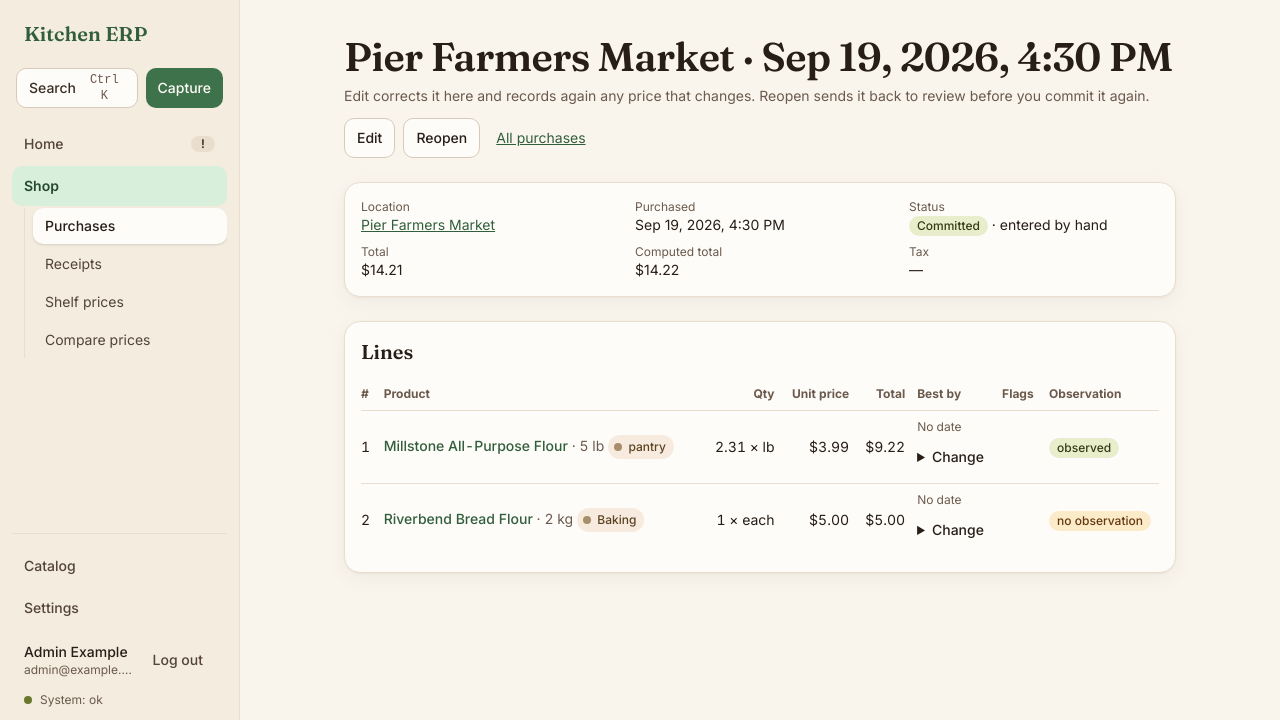
it: purchases › edits a manual purchase with the entry form and PUTs every line
Check: the heading "Pier Farmers Market · Sep 19, 2026, 4:30 PM" is shown, box [344,32,1172,82]
Click the button "Edit" at (370, 138), box [344,118,395,158]
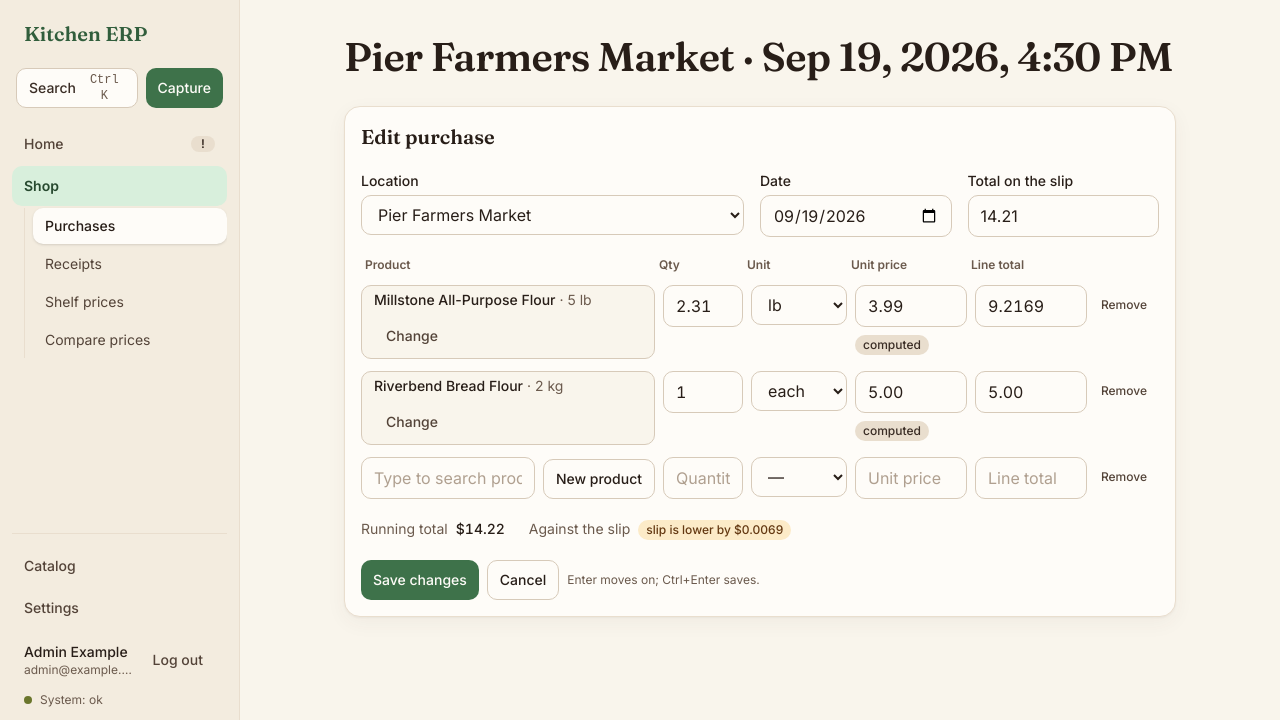
Check: the dropdown labelled "Location" shows "Pier Farmers Market", box [361,195,744,235]
Check: the field labelled "Total on the slip" holds "14.21", box [968,195,1159,237]
Check: the 1st field named "Quantity 1" holds "2.31", box [663,285,743,327]
Replace the text in the 3rd field named "Line total 1" with "10" at (1031, 306), box [975,285,1087,327]
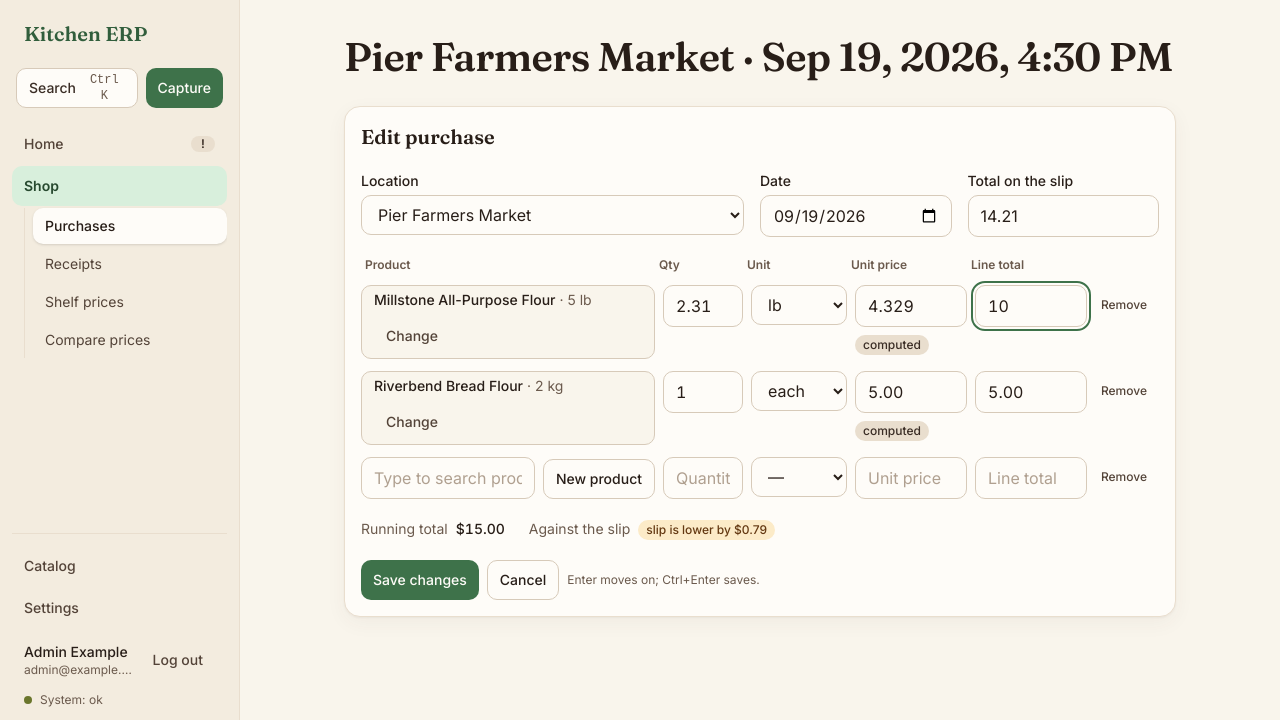
Replace the text in the field labelled "Total on the slip" with "15" at (1063, 216), box [968,195,1159,237]
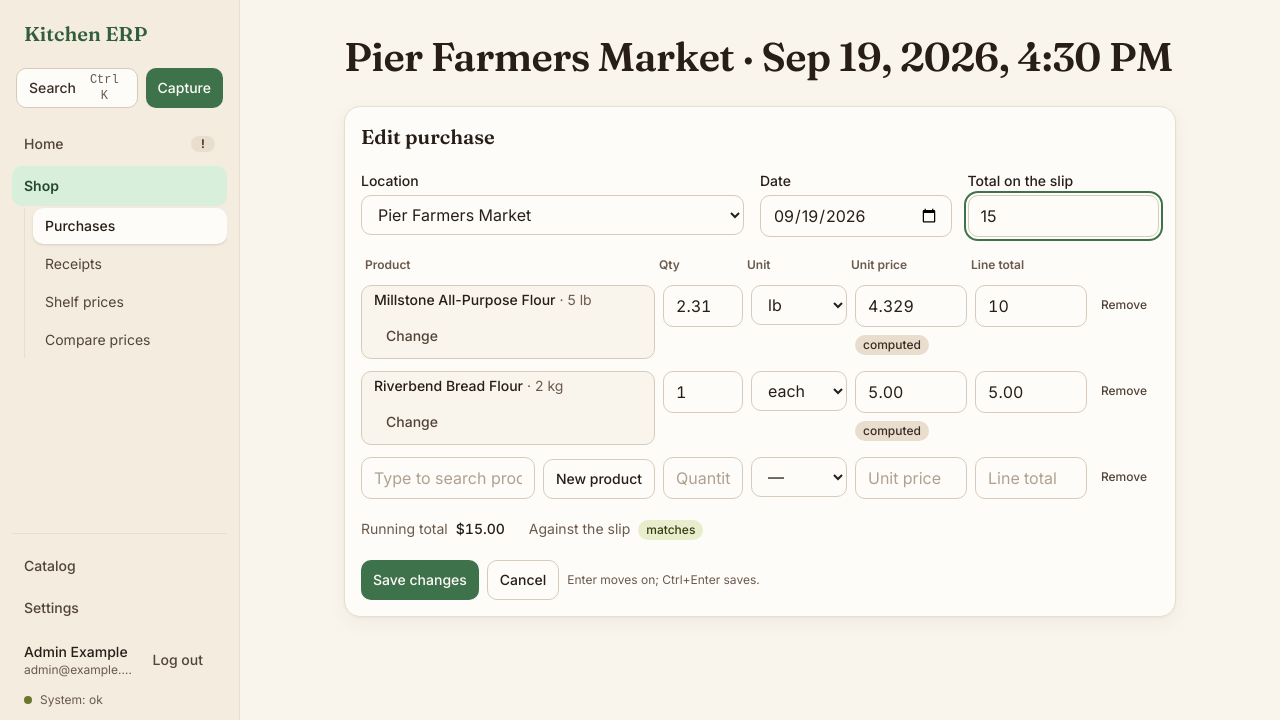
Click the button "Save changes" at (420, 580), box [361,560,479,600]
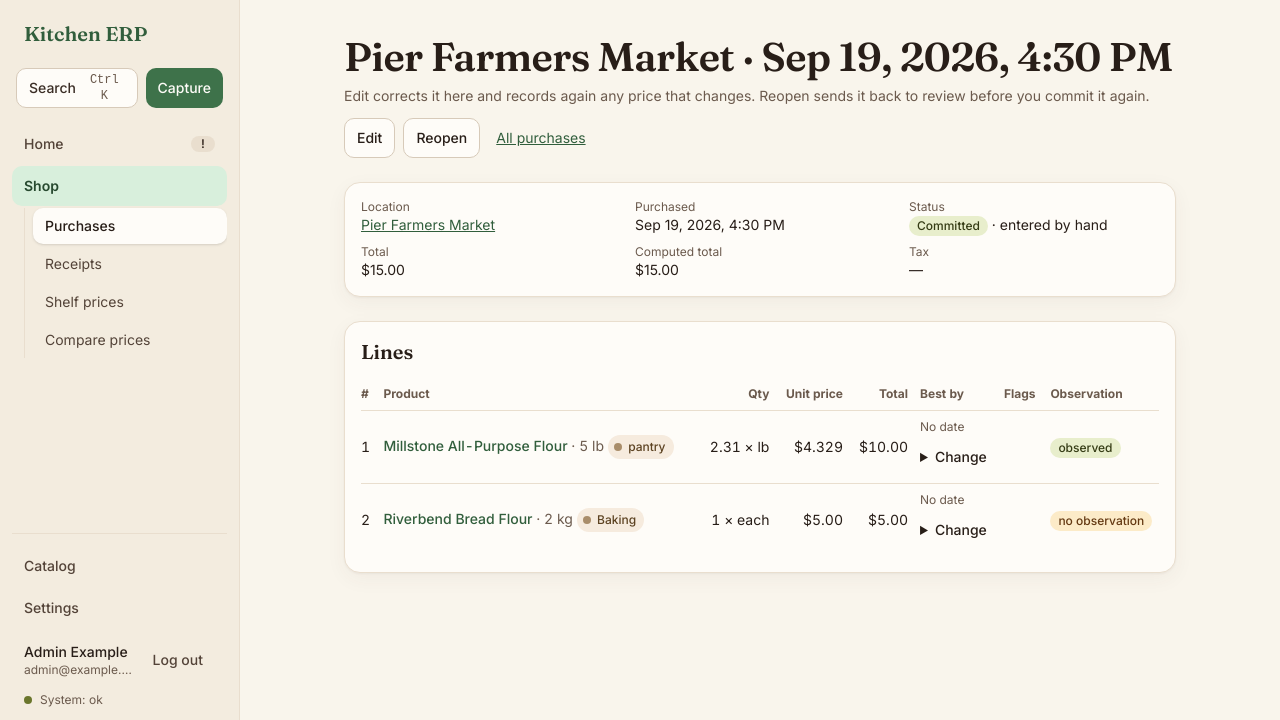
Check: the heading "Edit purchase" is gone
Check: the row that starts with "Millstone All-Purpose Flour" shows "$10.00", box [859,438,908,455]
